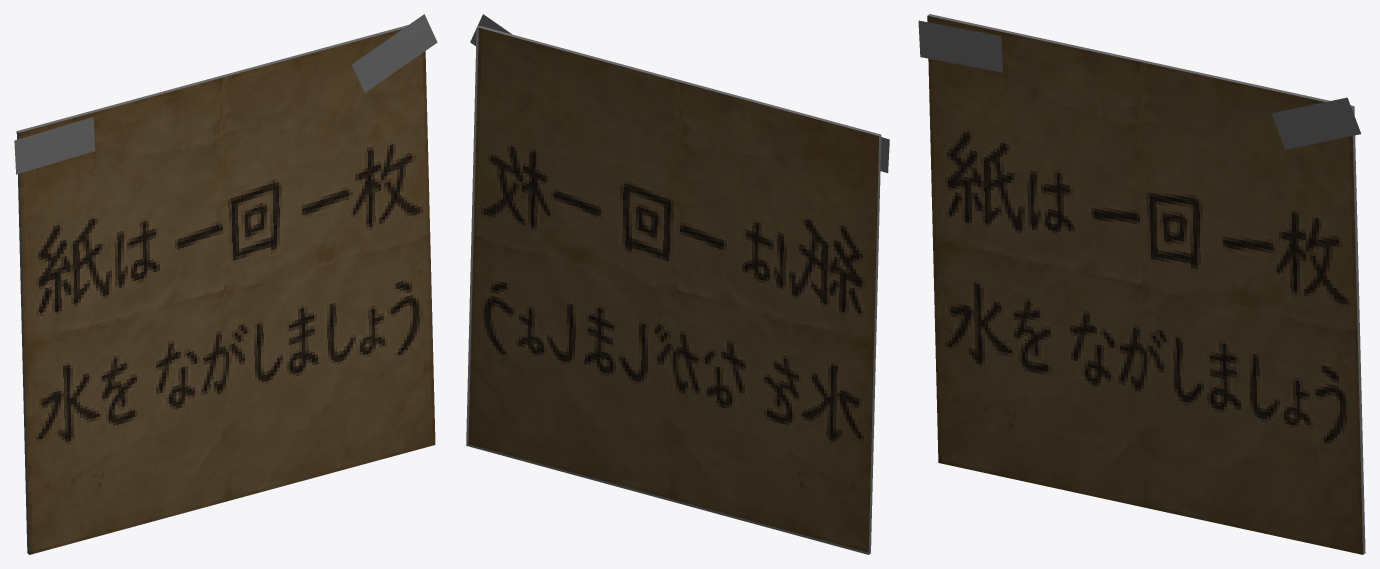
Rendered from prop_poster-toilet-2.glb.
3 renders of one model, left to right at view 1: azimuth 30°, elevation 25°; view 2: azimuth 150°, elevation 25°; view 3: azimuth 330°, elevation 25°, orthographic. The views are drawn at different scales.
Visible parts, largest first — view 1: prop_poster-toilet-2; view 2: prop_poster-toilet-2; view 3: prop_poster-toilet-2.
Part boxes in pixels (box(x1,y1,x2,y2)): prop_poster-toilet-2: box(14, 14, 437, 554); prop_poster-toilet-2: box(466, 14, 889, 554); prop_poster-toilet-2: box(918, 14, 1365, 554).
Bounding box in the file's own units: 0.3202 × 0.3228 × 0.0055.
Materials: 2 (2 with a texture image).
